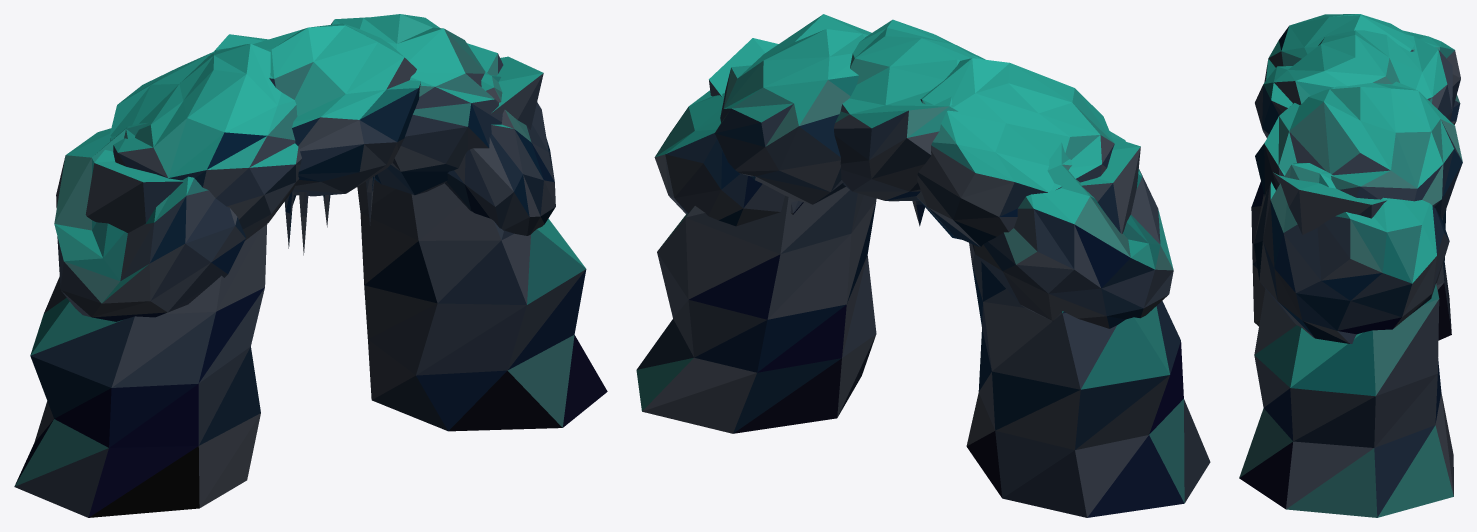
Rendered from batu_arch_basalt_488080.glb.
3 views of the same model, side by side, from view 1: azimuth 30°, elevation 25°; view 2: azimuth 150°, elevation 25°; view 3: azimuth 270°, elevation 25° (orthographic). The views are drawn at different scales.
Parts seen in each view (by area): view 1: Lengkungan_Gua_Batu; view 2: Lengkungan_Gua_Batu; view 3: Lengkungan_Gua_Batu.
Boxes of the visible parts, left/top/right/bottom form: Lengkungan_Gua_Batu: left=14, top=14, right=607, bottom=517; Lengkungan_Gua_Batu: left=636, top=14, right=1210, bottom=517; Lengkungan_Gua_Batu: left=1239, top=14, right=1462, bottom=517.
Size of the model in its own units: 10.55 by 7.17 by 4.04.
